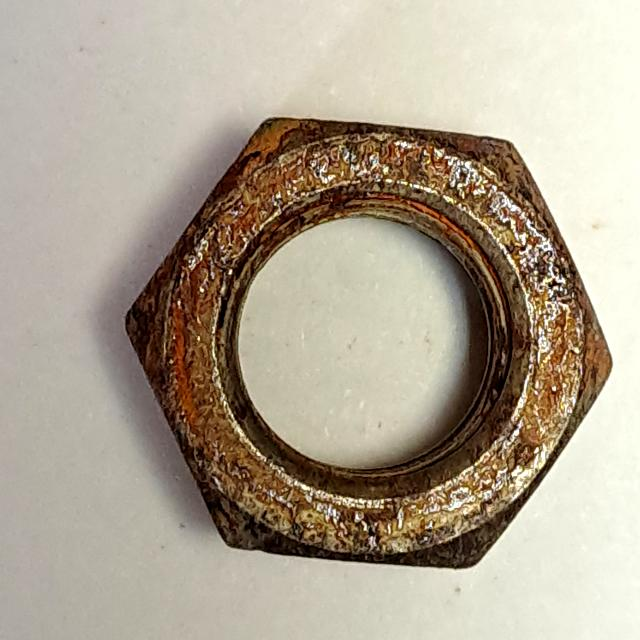Rust: (111, 107, 625, 594)
